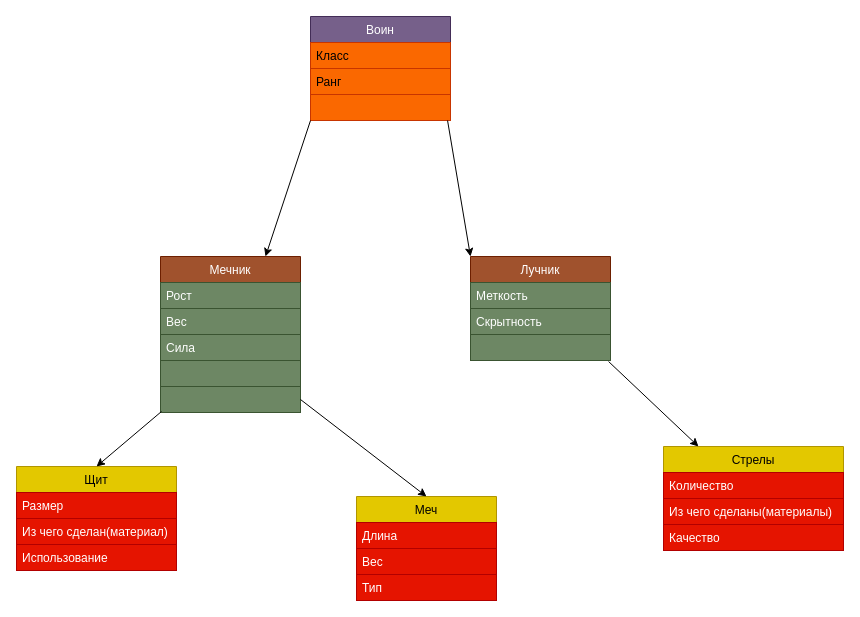
This 860x617 diagram has some shape labels left out. Each missing label, with the centre of its shape:
"Заслуги" goes at point (380, 107).
"Корпус" goes at point (230, 399).
"Ловкость" goes at point (230, 373).
"Умения" goes at point (540, 347).
